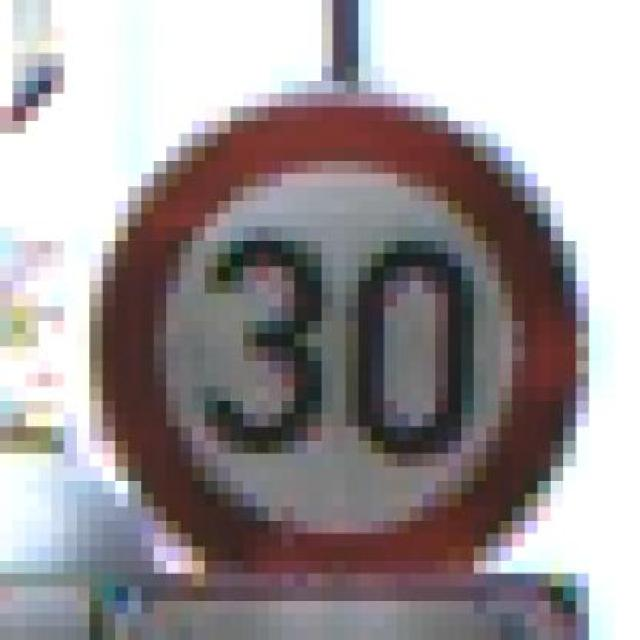Speed Limit 30 KMPh: (63, 53, 614, 601)
